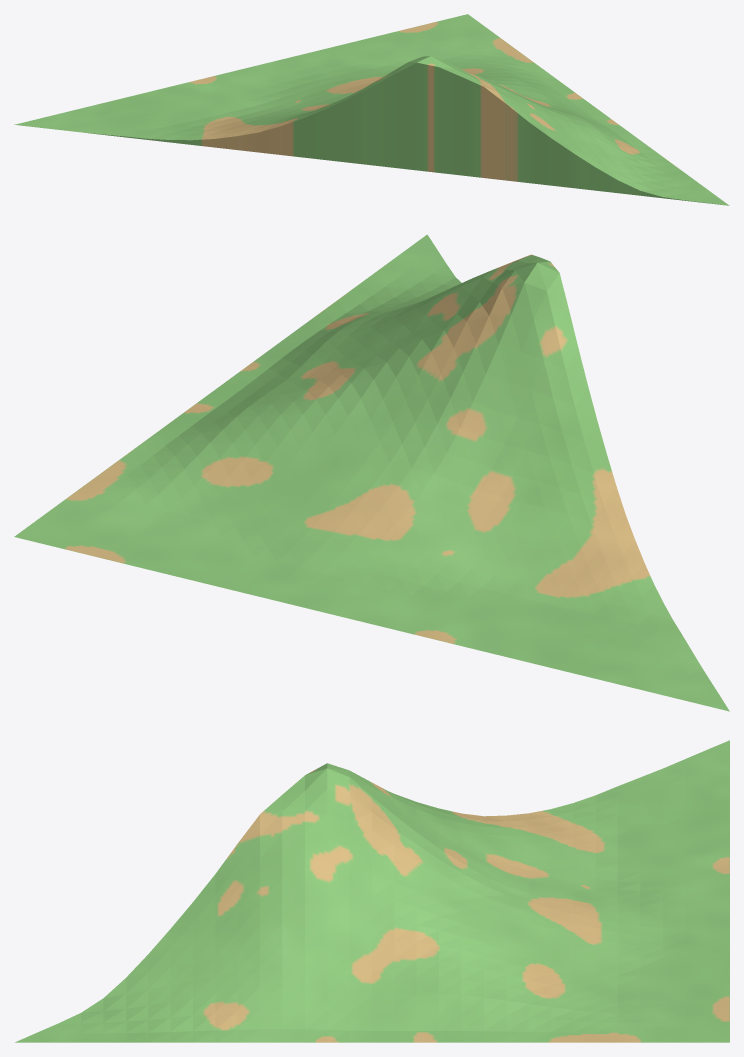
Rendered from Grass_Hills_05_SE.obj.
3 renders of one model, top to bottom at view 1: azimuth 30°, elevation 25°; view 2: azimuth 150°, elevation 25°; view 3: azimuth 270°, elevation 25°, orthographic. The views are drawn at different scales.
Size of the model in its own units: 10 by 2.33 by 10.
1 material, 1 textured.
